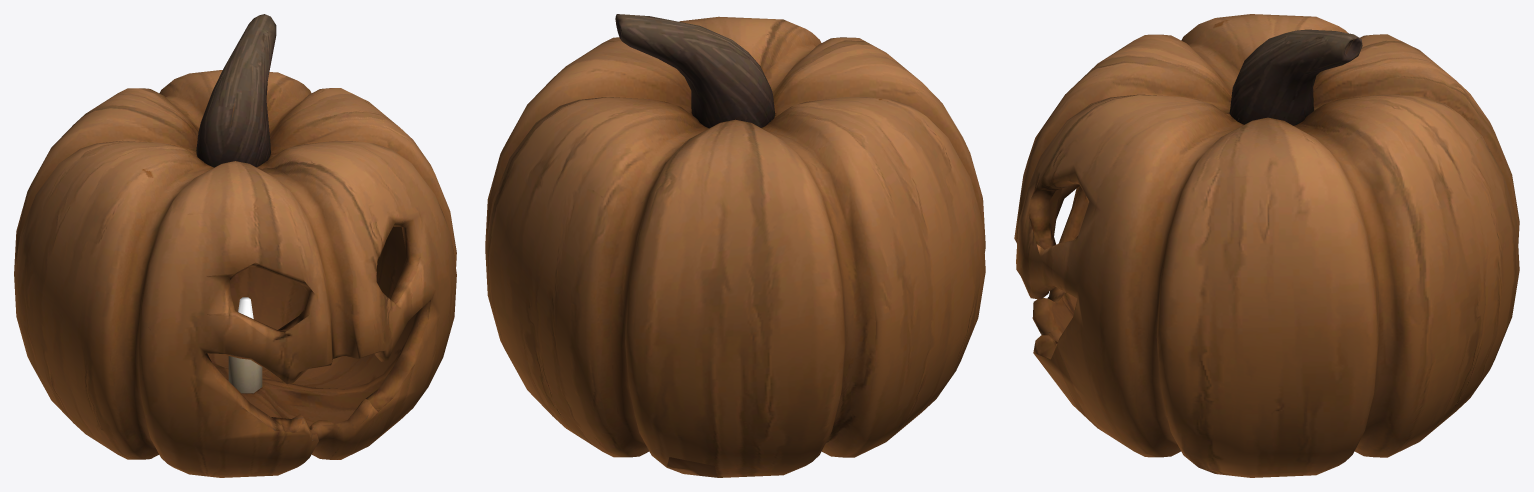
Rendered from JackOLantern.glb.
3 renders of one model, left to right at view 1: azimuth 30°, elevation 25°; view 2: azimuth 150°, elevation 25°; view 3: azimuth 270°, elevation 25°, orthographic. The views are drawn at different scales.
Parts seen in each view (by area): view 1: renderer; view 2: renderer; view 3: renderer.
Part boxes in pixels (x1=…): renderer: x1=14, y1=14, x2=456, y2=477; renderer: x1=485, y1=14, x2=985, y2=477; renderer: x1=1014, y1=14, x2=1519, y2=477.
Bounding box in the file's own units: 0.6128 × 0.5772 × 0.6391.
2 materials, 1 textured.
